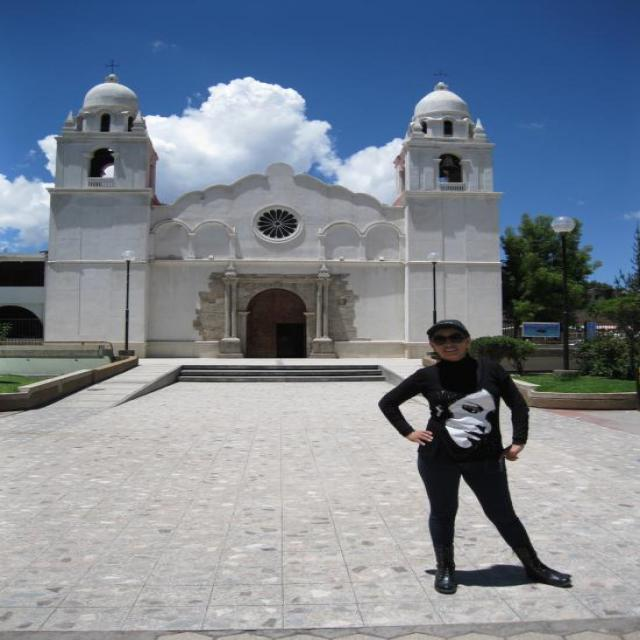CAMPANARIO: (48, 136, 155, 197), (398, 137, 499, 196)
CUPULA: (67, 64, 150, 127), (401, 74, 497, 127)
PORTADA CENTRAL: (220, 264, 332, 366)
SIMETRIA COLONIAL: (0, 43, 557, 380)
TORRES: (24, 56, 158, 352), (392, 69, 514, 358)
colonial-architecture-: (0, 2, 620, 387)
